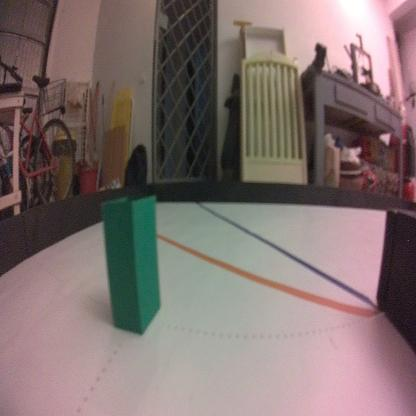green: (98, 191, 166, 341)
